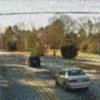cars: (54, 68, 90, 90)
